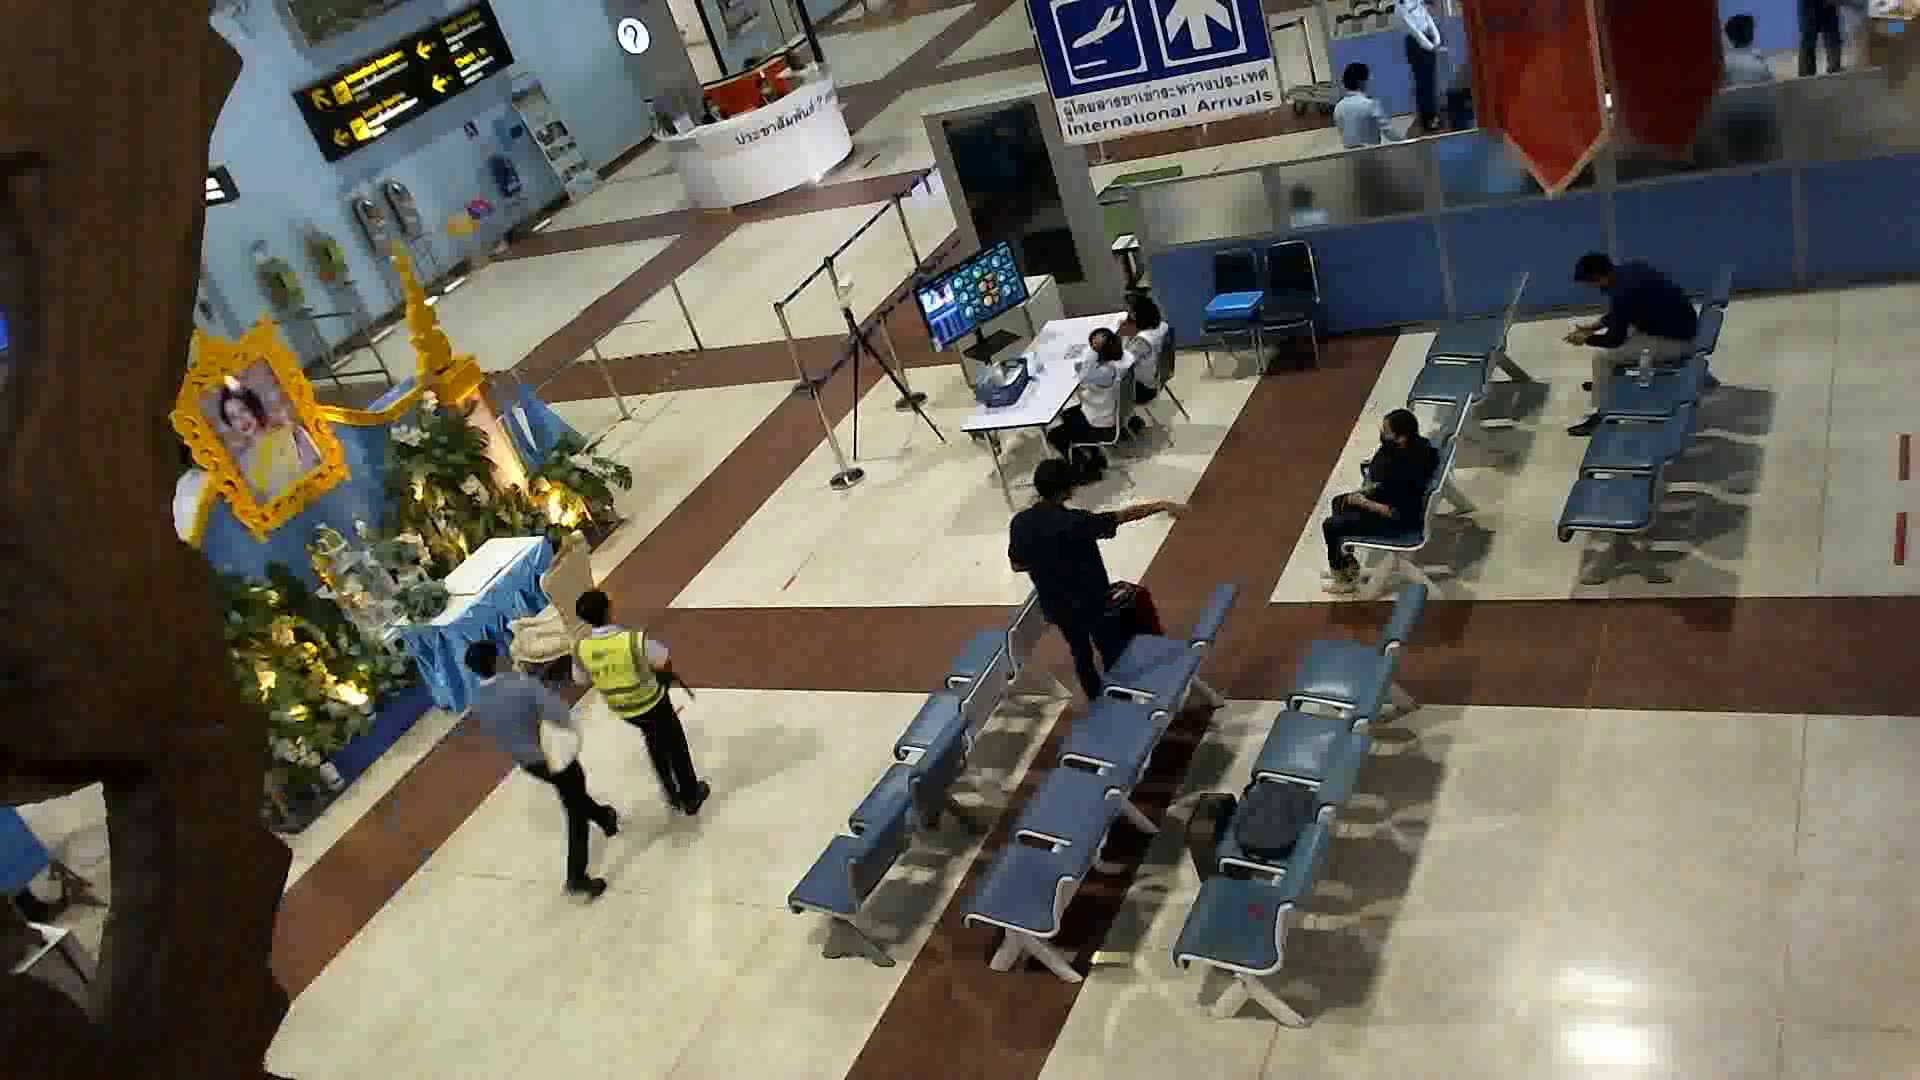backpack: (1243, 770, 1306, 861)
luggage: (1189, 786, 1243, 893), (1110, 576, 1166, 657)
people: (466, 636, 628, 913), (564, 586, 733, 840), (1003, 457, 1128, 705), (1568, 243, 1703, 441), (1314, 409, 1433, 591), (1045, 326, 1128, 470), (1110, 288, 1181, 424)
